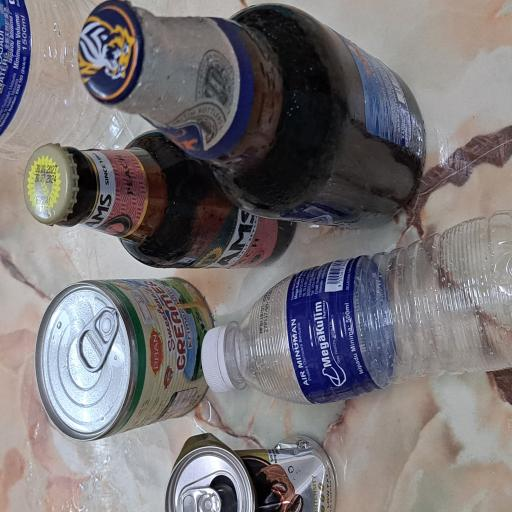can: (54, 46, 176, 288), (0, 222, 59, 455)
glass bottle: (211, 103, 384, 512), (184, 31, 288, 397)
plastic bottle: (77, 299, 225, 512), (269, 0, 384, 181)
plastic bottle cap: (88, 268, 142, 327)
pop tab: (104, 100, 155, 157), (0, 239, 19, 295)
